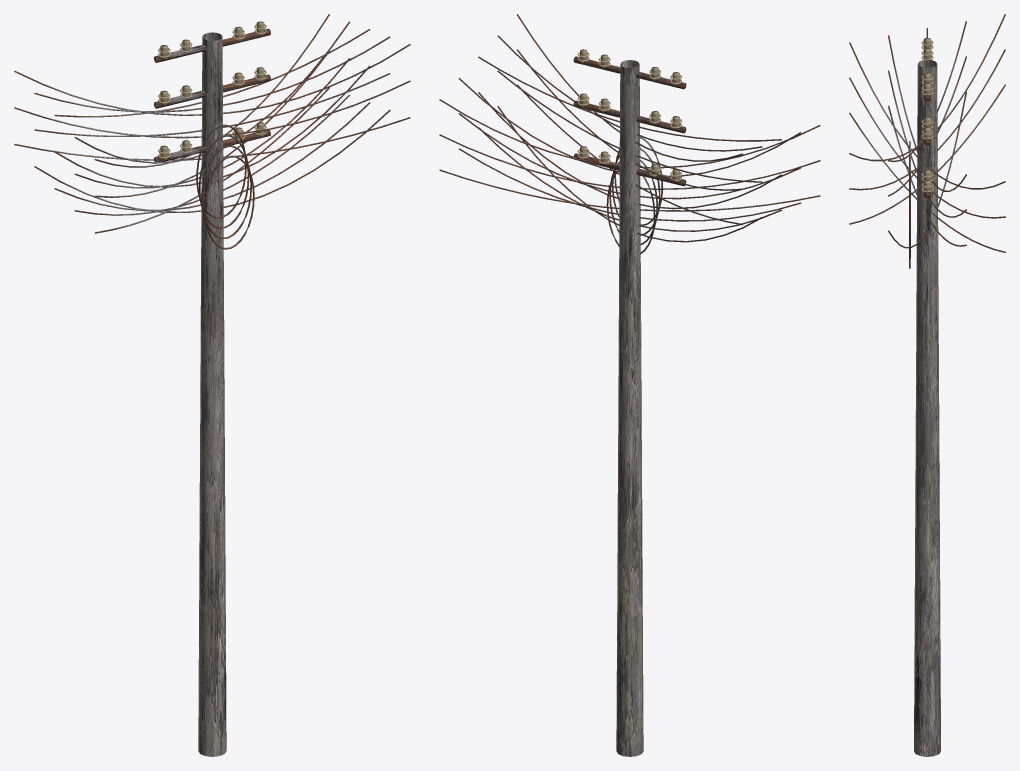
Rendered from prop_wire_pole.glb.
3 views of the same model, side by side, from view 1: azimuth 30°, elevation 25°; view 2: azimuth 150°, elevation 25°; view 3: azimuth 270°, elevation 25° (orthographic). The views are drawn at different scales.
Visible parts, largest first — view 1: prop_wire_pole; view 2: prop_wire_pole; view 3: prop_wire_pole.
Boxes of the visible parts, x1=… form: prop_wire_pole: x1=14, y1=14, x2=410, y2=756; prop_wire_pole: x1=439, y1=14, x2=820, y2=756; prop_wire_pole: x1=849, y1=14, x2=1005, y2=756.
Bounding box in the file's own units: 3.69 × 8 × 1.65.
Materials: 3 (3 with a texture image).
